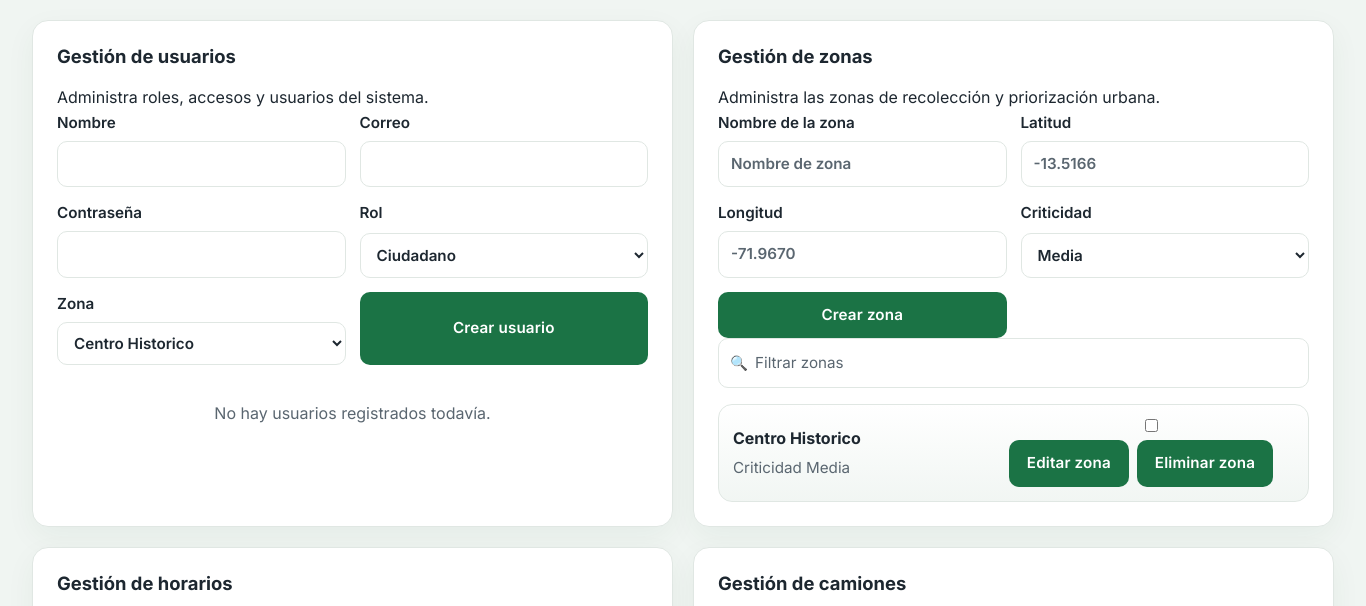
Test: Admin dashboard › muestra un estado vacío cuando no hay zonas que coincidan con el filtro
This screenshot has width=1366, height=606.
Type "no-existe" into the field labelled "Filtrar zonas" at (1014, 363), box [718,338,1309,388]
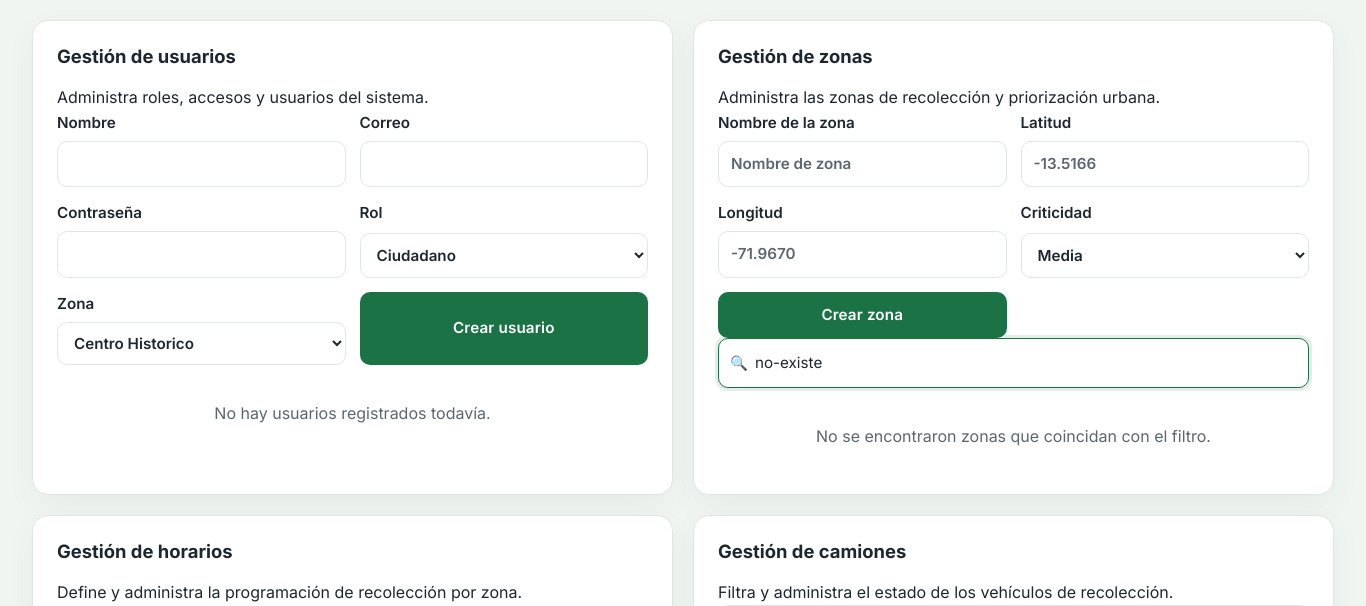
Now the list item "No se encontraron zonas que coincidan con el filtro." is shown, box [816,426,1211,446]
